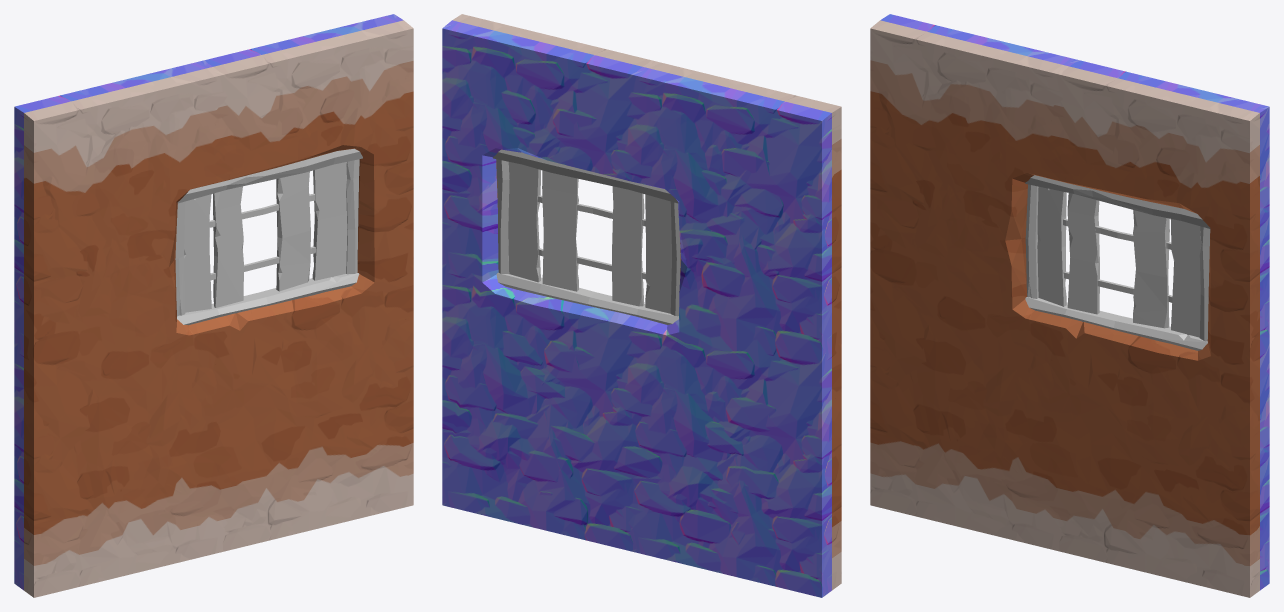
Rendered from SM_Bld_Wall_Window_03.fbx.
3 renders of one model, left to right at view 1: azimuth 30°, elevation 25°; view 2: azimuth 150°, elevation 25°; view 3: azimuth 330°, elevation 25°, orthographic.
Visible parts, largest first — view 1: SM_Bld_Wall_Window_03; view 2: SM_Bld_Wall_Window_03; view 3: SM_Bld_Wall_Window_03.
Boxes of the visible parts, x1,y1,x2,y2 form: SM_Bld_Wall_Window_03: (14, 14, 413, 597); SM_Bld_Wall_Window_03: (442, 14, 841, 597); SM_Bld_Wall_Window_03: (870, 14, 1269, 597).
Size of the model in its own units: 250 by 301 by 22.5.
